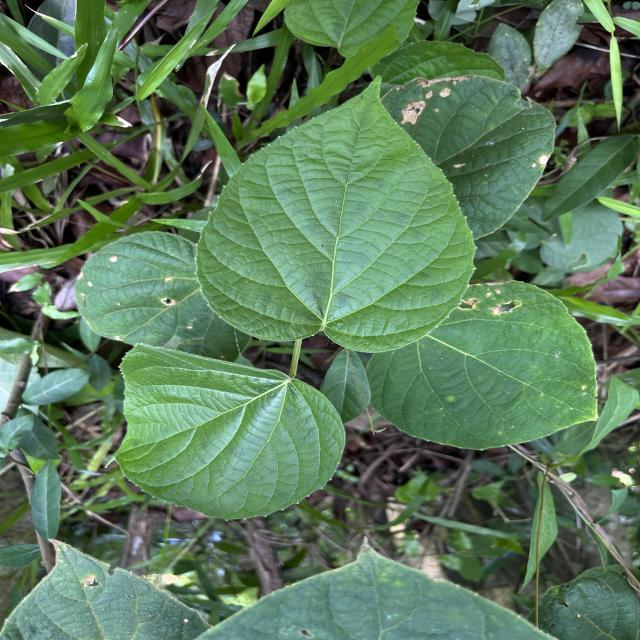Clerodendrum infortunatum: (192, 72, 478, 356), (103, 341, 350, 524), (364, 278, 602, 452)
